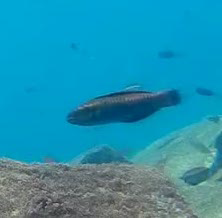smallfish: (65, 78, 183, 125)
